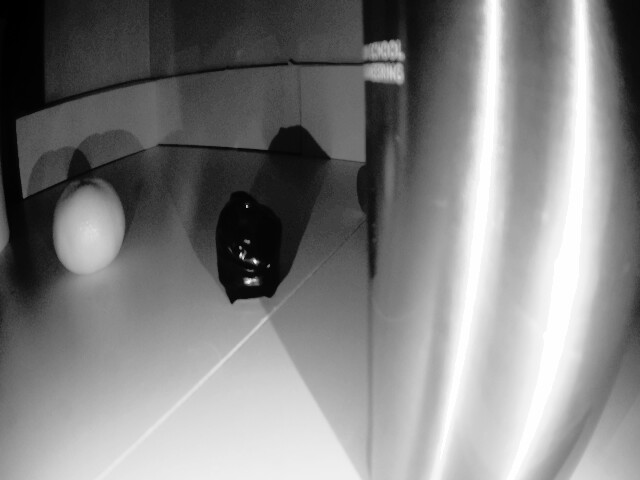silver: (210, 187, 293, 300)
